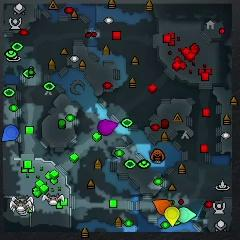p1: (1, 125, 20, 142)
p2: (177, 208, 195, 222)
p3: (97, 120, 118, 134)
p4: (164, 207, 179, 225)
p5: (154, 199, 172, 216)
